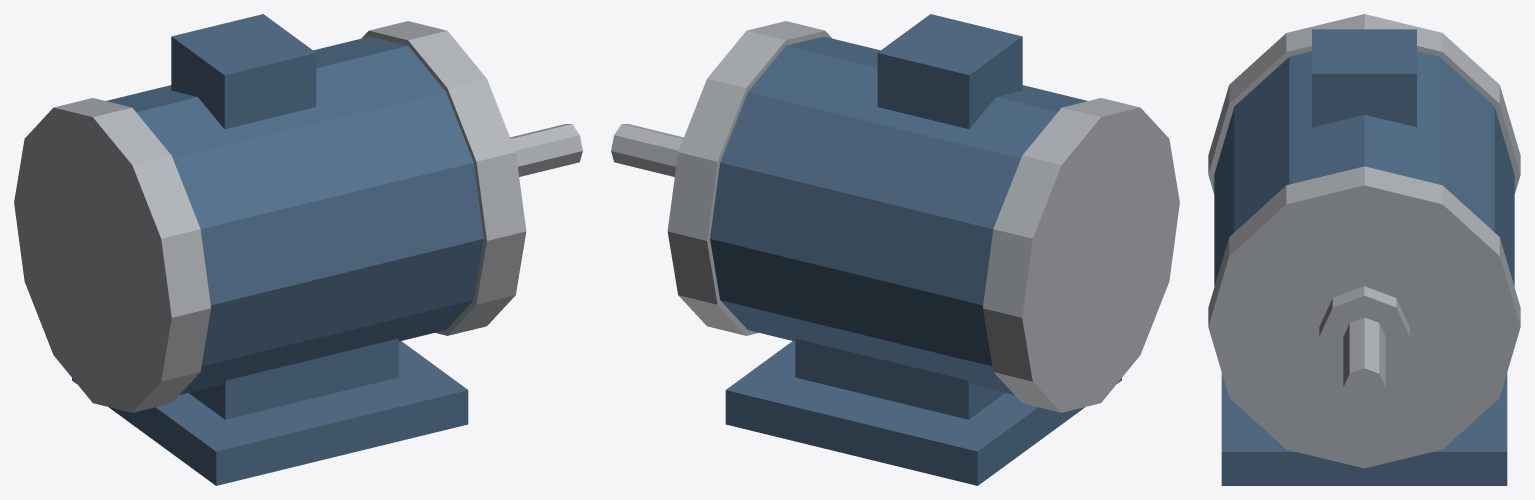
The model's file is motor_basic.glb.
3 renders of one model, left to right at view 1: azimuth 30°, elevation 25°; view 2: azimuth 150°, elevation 25°; view 3: azimuth 270°, elevation 25°, orthographic.
Visible parts, largest first — view 1: motor_basic; view 2: motor_basic; view 3: motor_basic.
Part boxes in pixels (left/top/right/bottom): motor_basic: left=14, top=14, right=582, bottom=485; motor_basic: left=611, top=14, right=1179, bottom=485; motor_basic: left=1208, top=14, right=1520, bottom=485.
Size of the model in its own units: 0.365 by 0.265 by 0.208.
